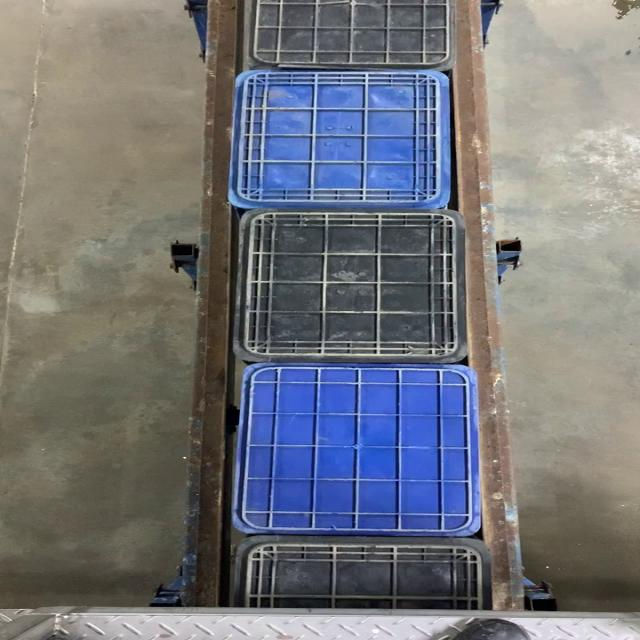Box: (232, 363, 483, 535), (234, 210, 469, 363), (229, 68, 451, 209)
